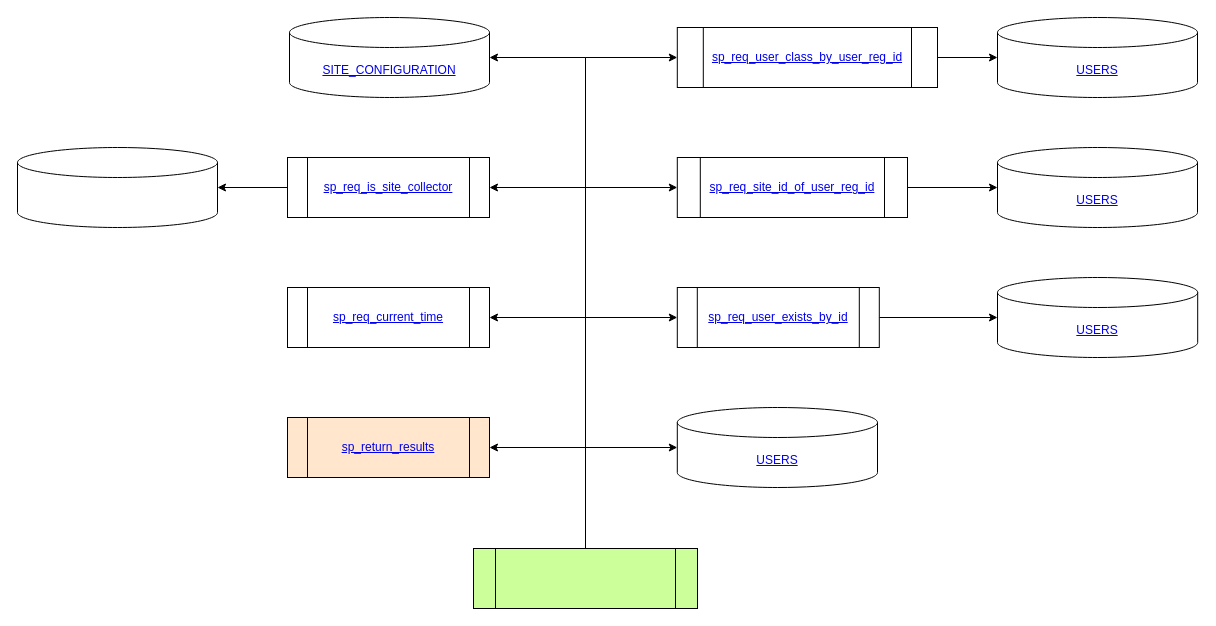
Some shapes in this 1216 by 626 pixel diagram are drawn without their labels. The centre of each missing label's shape, as x and y in pixels:
COMP_SITE: [117,187]
sp_update_site_configuration: [585,578]
